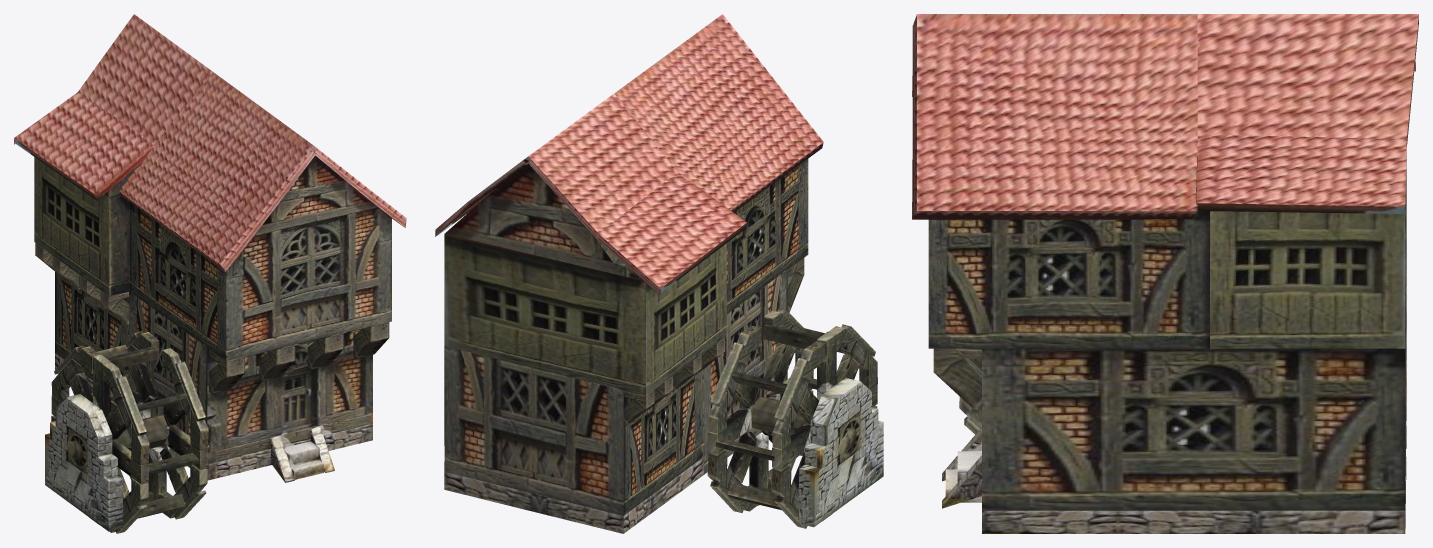
Rendered from waterwheel.glb.
The picture shows the model from 3 angles, left to right: view 1: azimuth 30°, elevation 25°; view 2: azimuth 150°, elevation 25°; view 3: azimuth 270°, elevation 25°; orthographic projection. The views are drawn at different scales.
Visible parts, largest first — view 1: Watermill; view 2: Watermill; view 3: Watermill.
Boxes of the visible parts, x1,y1,x2,y2 form: Watermill: [14, 14, 406, 533]; Watermill: [435, 14, 883, 533]; Watermill: [912, 14, 1418, 533].
Bounding box in the file's own units: 2.32 × 3.14 × 2.7.
1 material, 1 textured.
